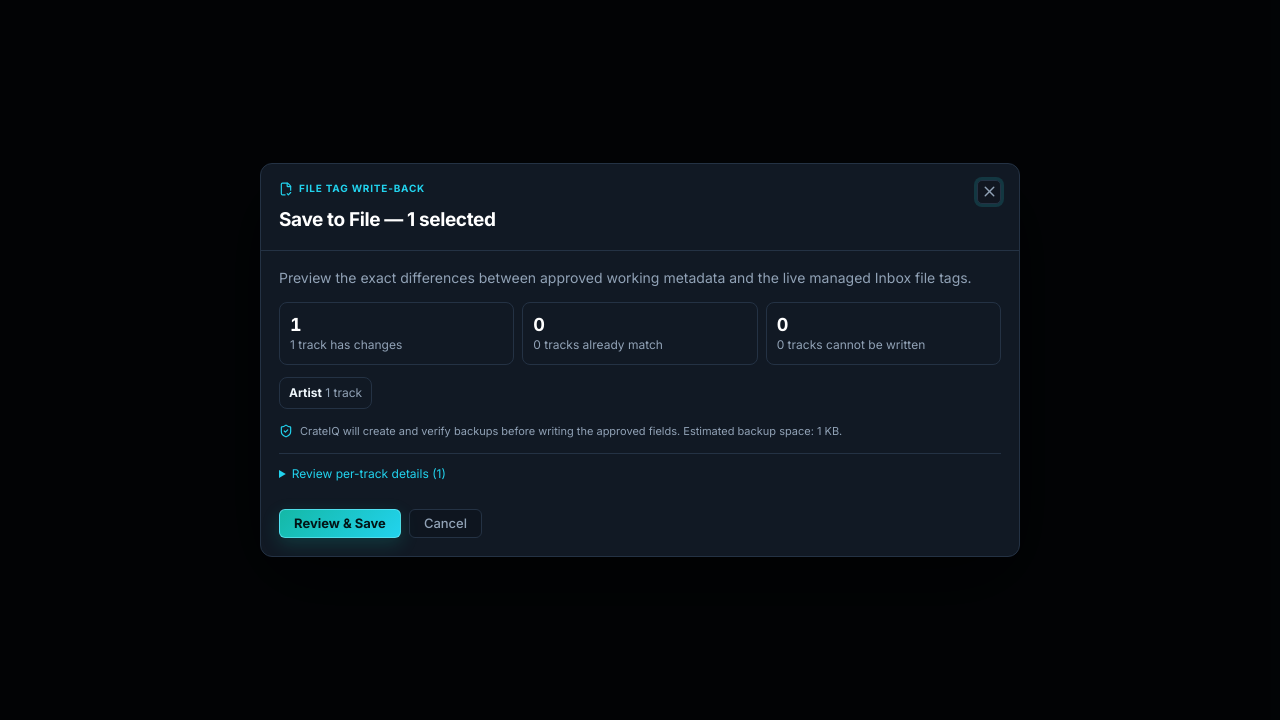
it: SaveToFileDialog › reports a stale result without automatically requesting a fresh plan
The width and height of the screenshot is (1280, 720).
Click the button "Review & Save" at (340, 524), box [279, 509, 401, 538]
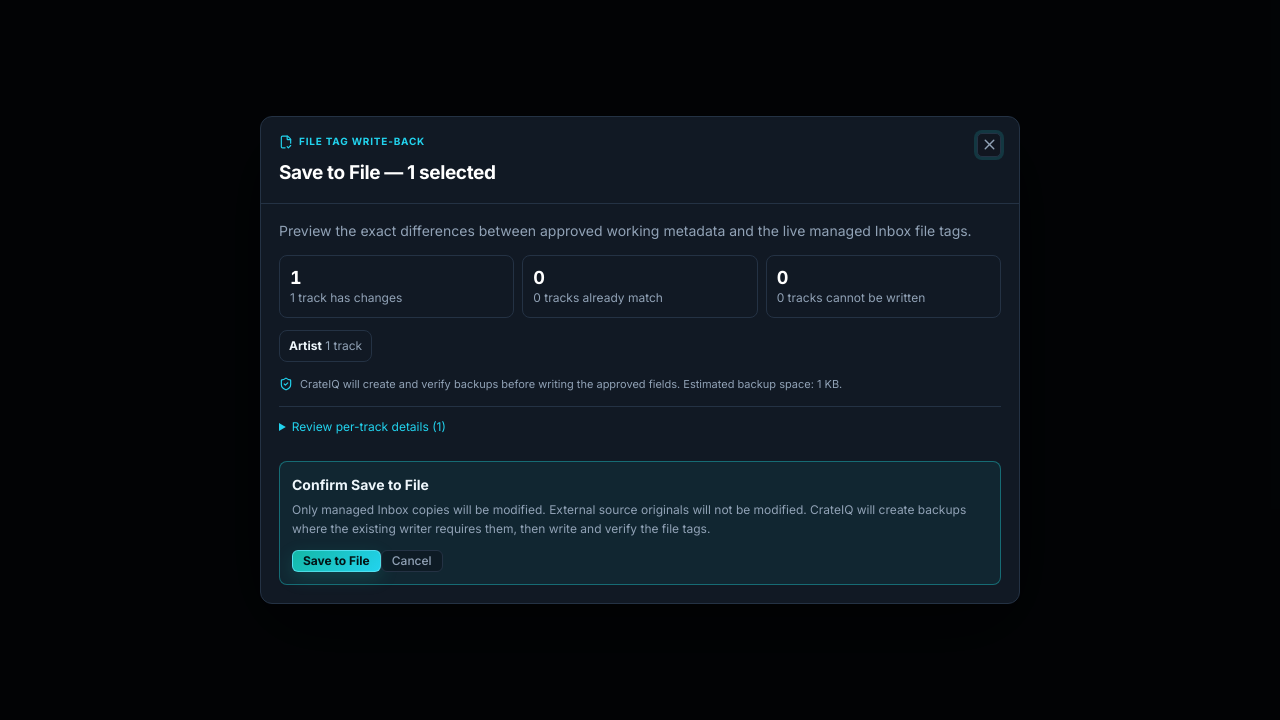
Click the button "Save to File" at (336, 561), box [292, 550, 381, 572]
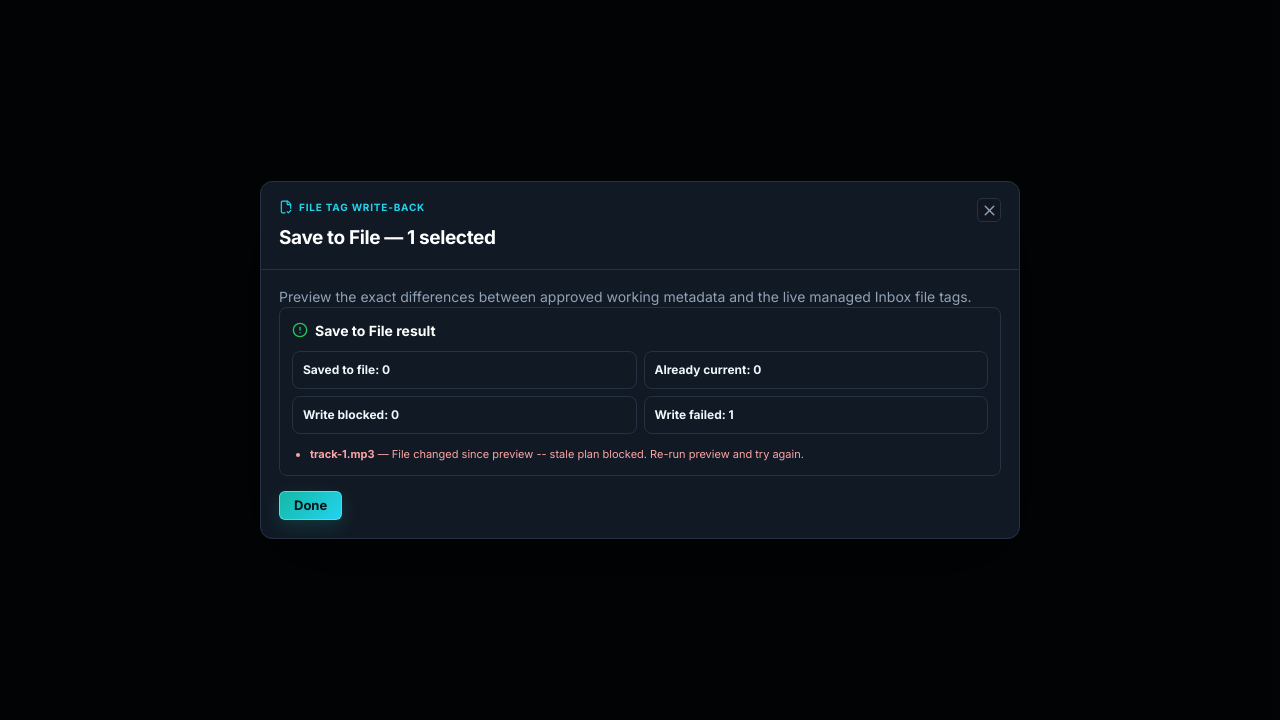
Expected: the list item "stale plan blocked" is shown, [392, 447, 804, 461]
